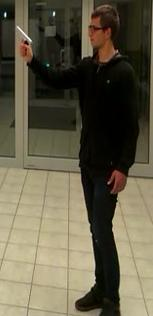pistol: (15, 23, 34, 60)
